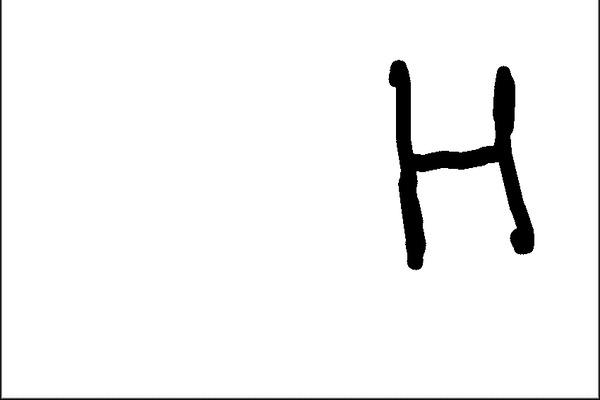H: (381, 52, 541, 272)
